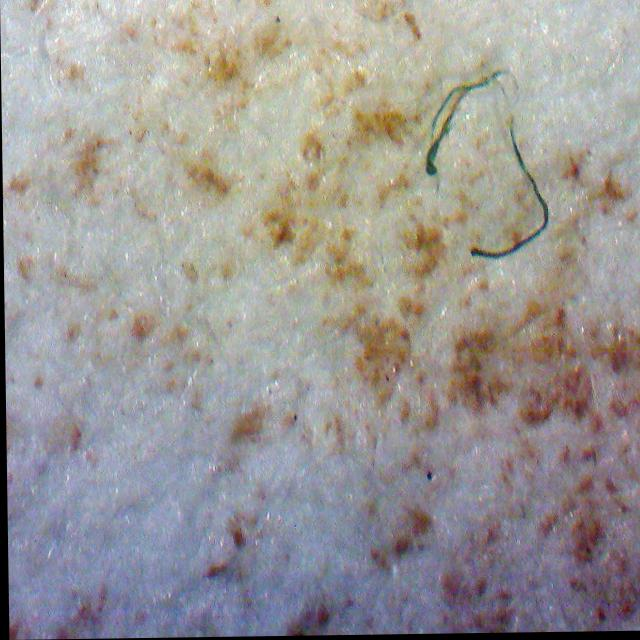microplastic: (469, 132, 548, 262), (425, 73, 518, 176)
